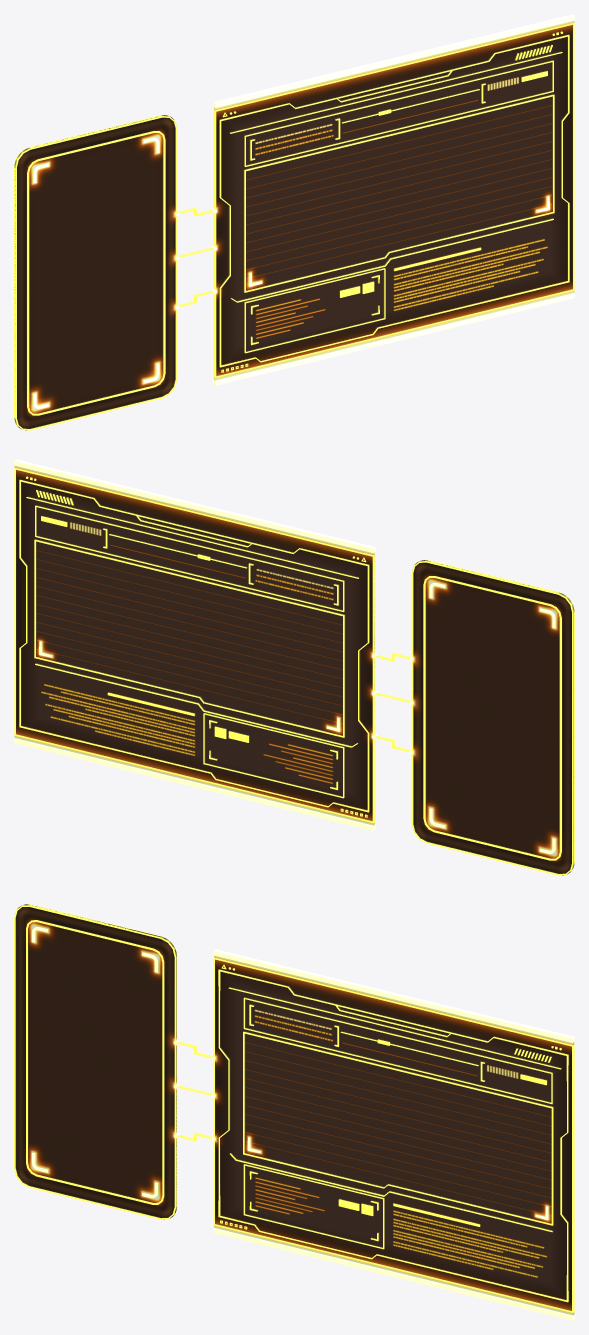
Rendered from hologram.glb.
The picture shows the model from 3 angles, top to bottom: view 1: azimuth 30°, elevation 25°; view 2: azimuth 150°, elevation 25°; view 3: azimuth 330°, elevation 25°; orthographic projection.
Parts seen in each view (by area): view 1: HoloTerminal_SmokedGlassPanes, HoloTerminal_StructuralFrames, HoloTerminal_HighBloomAccents, HoloTerminal_BezelAndTierDetails; view 2: HoloTerminal_SmokedGlassPanes, HoloTerminal_StructuralFrames, HoloTerminal_HighBloomAccents, HoloTerminal_BezelAndTierDetails; view 3: HoloTerminal_SmokedGlassPanes, HoloTerminal_StructuralFrames, HoloTerminal_HighBloomAccents, HoloTerminal_BezelAndTierDetails.
Boxes of the visible parts, x1,y1,x2,y2 form: HoloTerminal_SmokedGlassPanes: (14,21,574,430); HoloTerminal_StructuralFrames: (14,23,574,430); HoloTerminal_HighBloomAccents: (33,14,574,409); HoloTerminal_BezelAndTierDetails: (221,31,562,372); HoloTerminal_SmokedGlassPanes: (14,466,574,875); HoloTerminal_StructuralFrames: (14,468,574,875); HoloTerminal_HighBloomAccents: (14,459,555,854); HoloTerminal_BezelAndTierDetails: (26,476,367,817); HoloTerminal_SmokedGlassPanes: (15,904,574,1315); HoloTerminal_StructuralFrames: (14,904,574,1312); HoloTerminal_HighBloomAccents: (31,927,574,1320); HoloTerminal_BezelAndTierDetails: (220,964,561,1241).
Bounding box in the file's own units: 2.07 × 1 × 0.015.
Materials: 3 (1 with a texture image).
